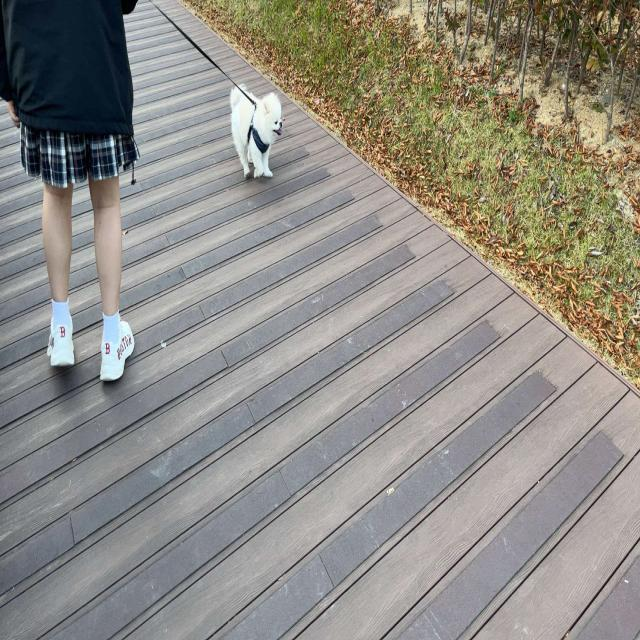Leashed_Dog: (103, 0, 282, 180)
